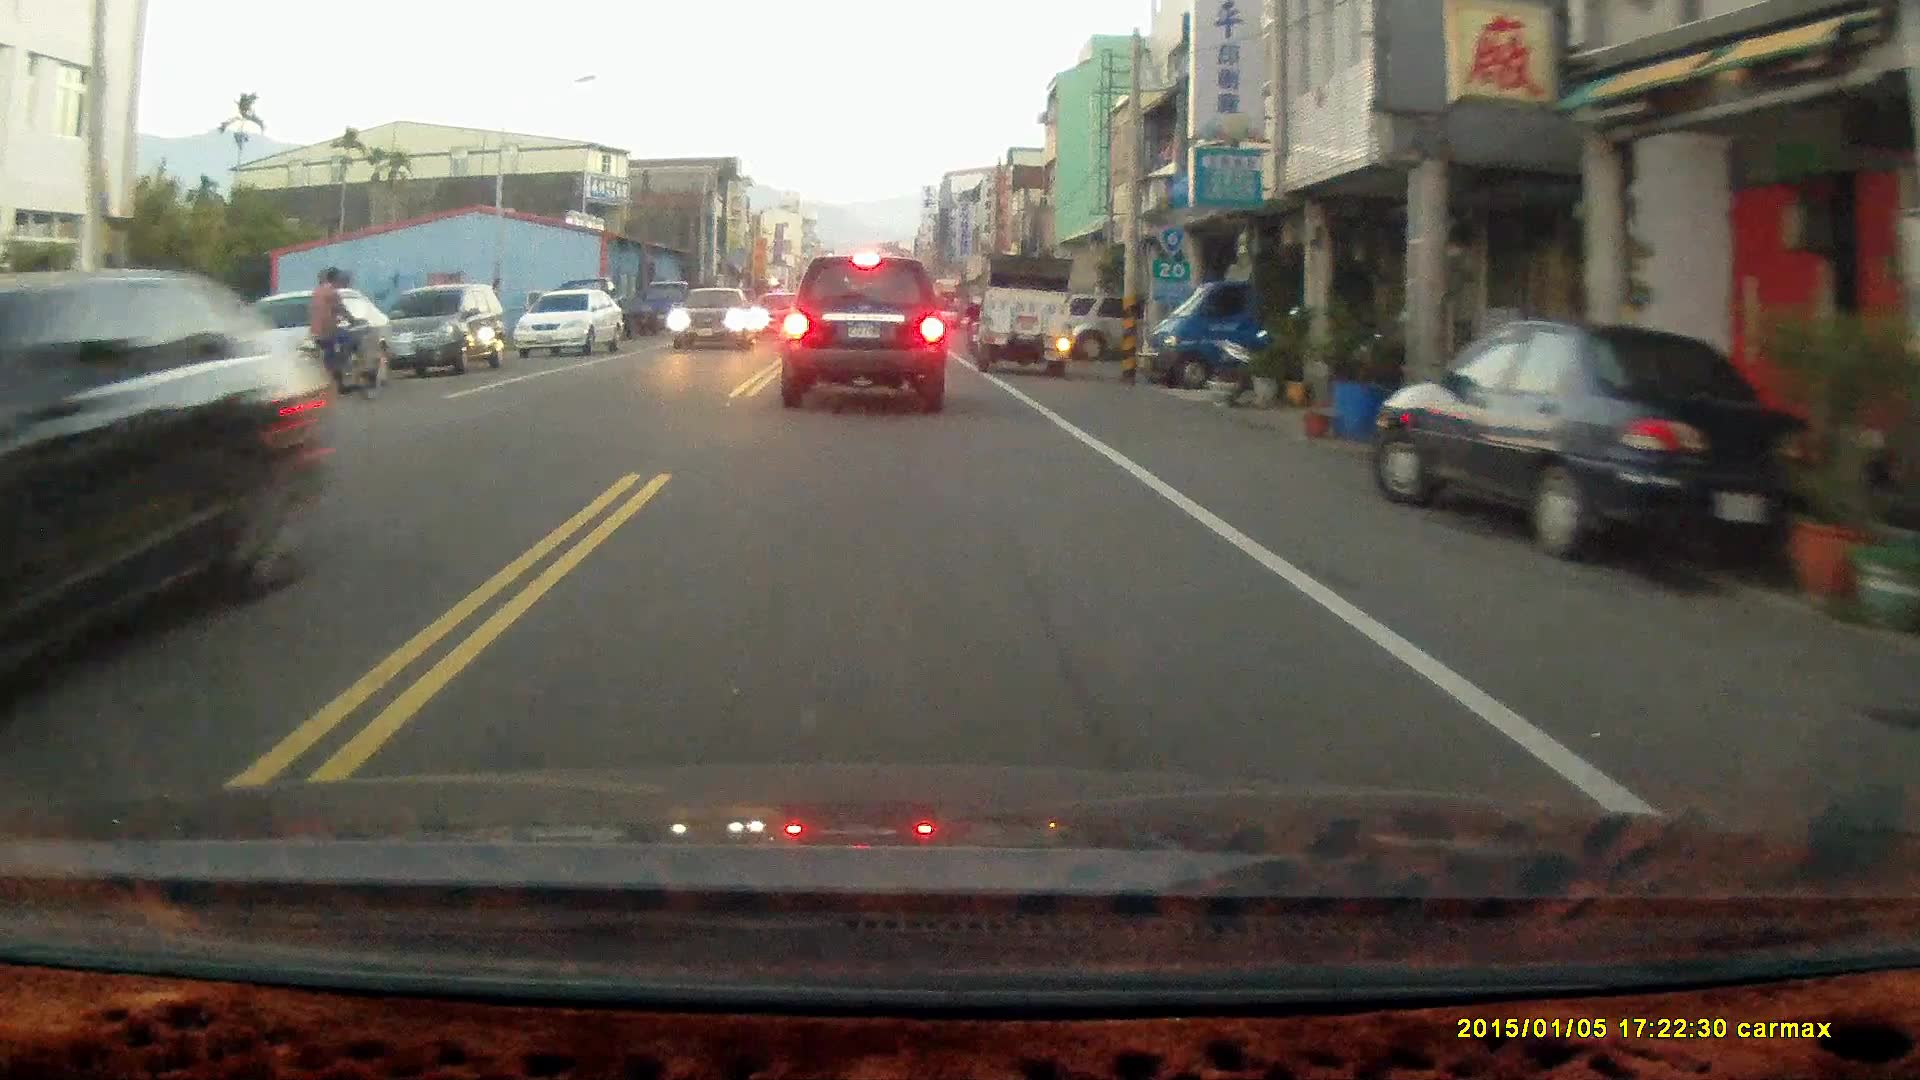rider: (281, 260, 388, 411)
vehicle: (1, 268, 338, 726), (1376, 319, 1830, 567), (782, 250, 949, 409), (205, 293, 403, 414), (1138, 253, 1301, 390), (371, 282, 512, 380), (976, 257, 1075, 377), (514, 288, 627, 360), (677, 287, 759, 350), (635, 279, 704, 340)
